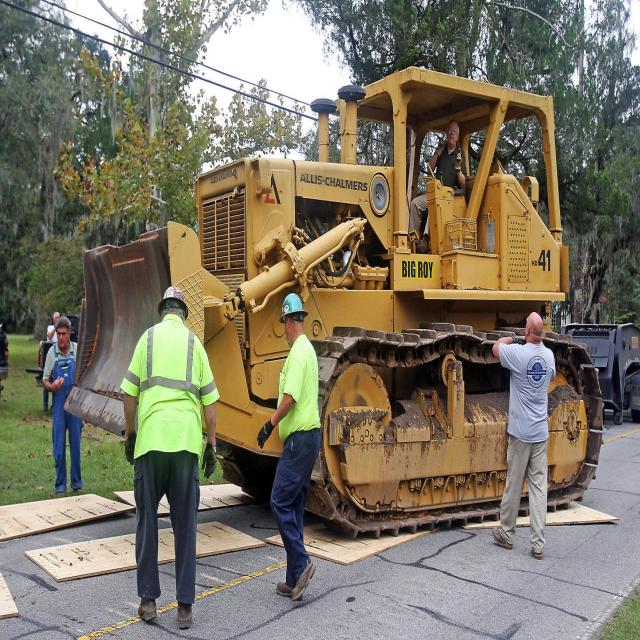Bulldozer: (70, 57, 640, 530)
